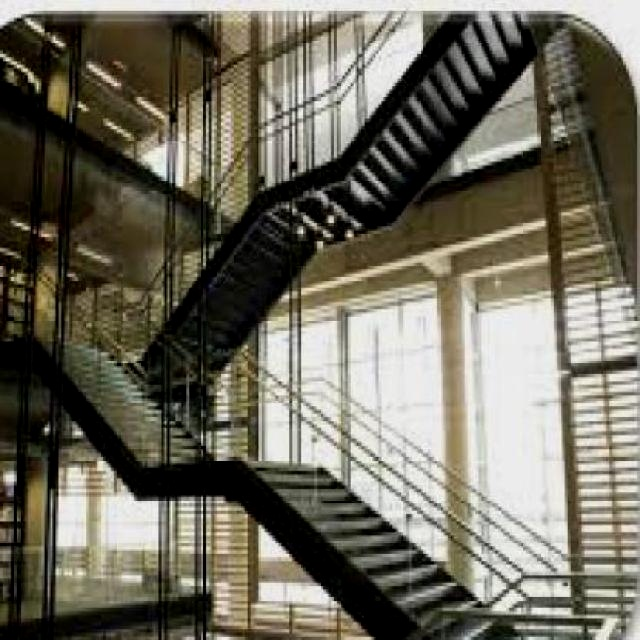stair: (25, 299, 568, 636)
